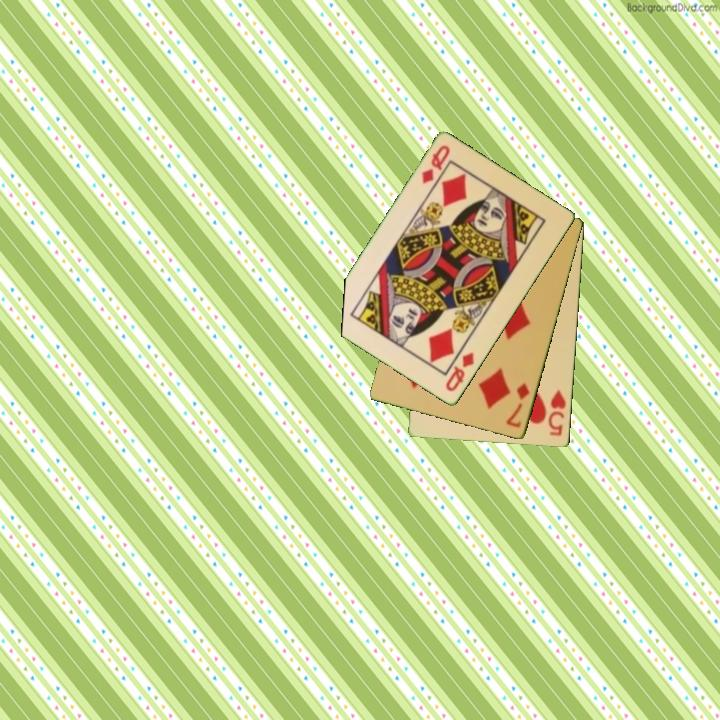5h: (545, 387, 569, 439)
7d: (503, 380, 533, 431)
Qd: (442, 349, 477, 395), (418, 142, 453, 187)
